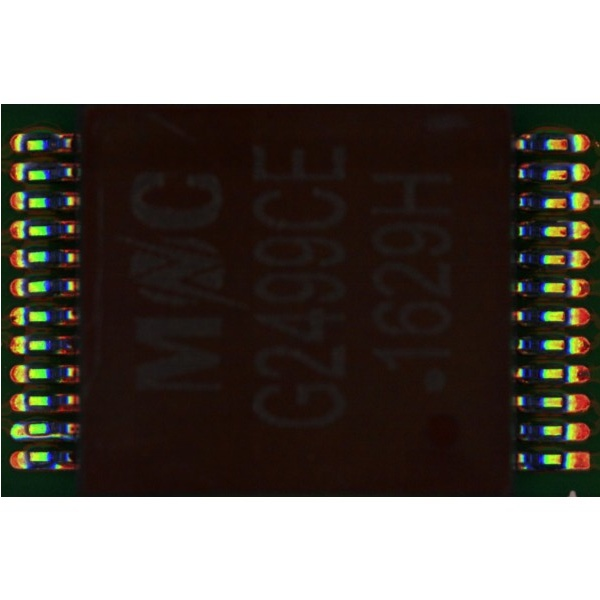Bad_podu: (18, 426, 36, 436)
Bad_qiaojiao: (29, 434, 75, 439)
